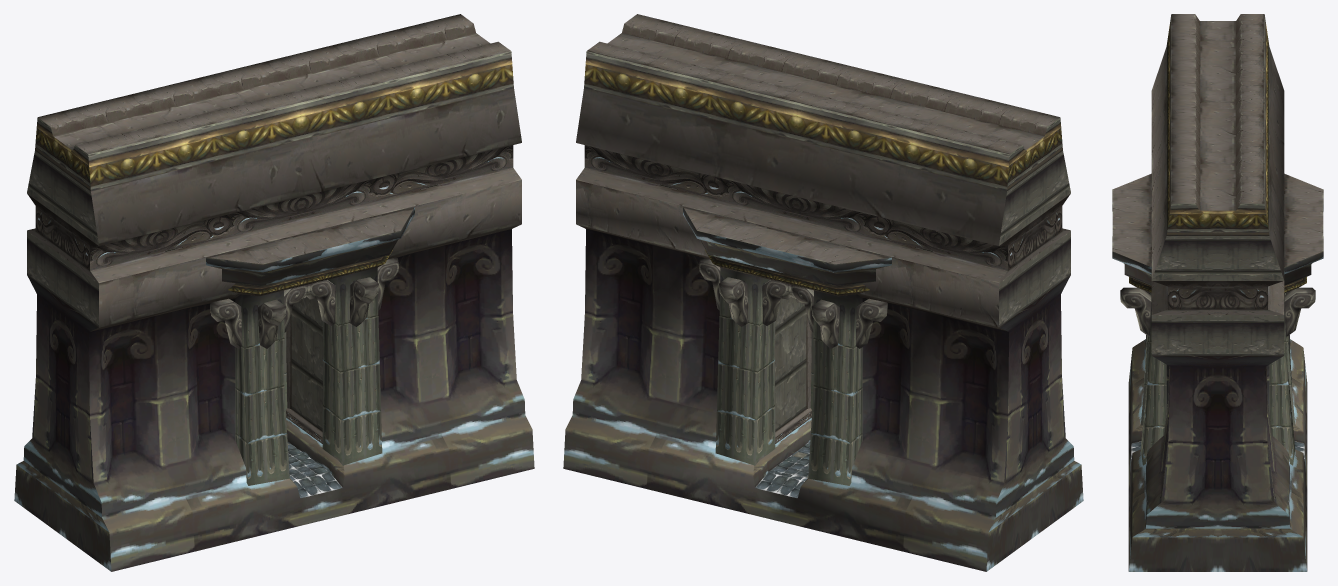
File: wg_wall02_set0.obj
3 views of the same model, side by side, from view 1: azimuth 30°, elevation 25°; view 2: azimuth 150°, elevation 25°; view 3: azimuth 270°, elevation 25° (orthographic). The views are drawn at different scales.
Parts seen in each view (by area): view 1: wall021, wall022, wall024, wall026, wall023, wall025, wall020; view 2: wall021, wall022, wall024, wall026, wall023, wall025, wall020; view 3: wall021, wall022, wall023, wall024, wall026, wall025.
Part boxes in pixels (x1,y1,x2,y2): wall021: (14,207,534,571); wall022: (27,14,521,443); wall024: (35,51,513,296); wall026: (235,267,382,485); wall023: (27,151,322,444); wall025: (210,257,398,348); wall020: (287,442,342,498); wall021: (563,207,1083,571); wall022: (576,14,1070,443); wall024: (584,51,1062,296); wall026: (715,267,862,485); wall023: (775,151,1070,477); wall025: (699,257,887,348); wall020: (755,442,810,498); wall021: (1112,204,1323,571); wall022: (1112,14,1323,314); wall023: (1151,236,1284,355); wall024: (1129,15,1306,293); wall026: (1140,293,1295,465); wall025: (1120,263,1315,336).
Bounding box in the file's own units: 28.46 × 25.75 × 13.39.
7 materials, 7 textured.
